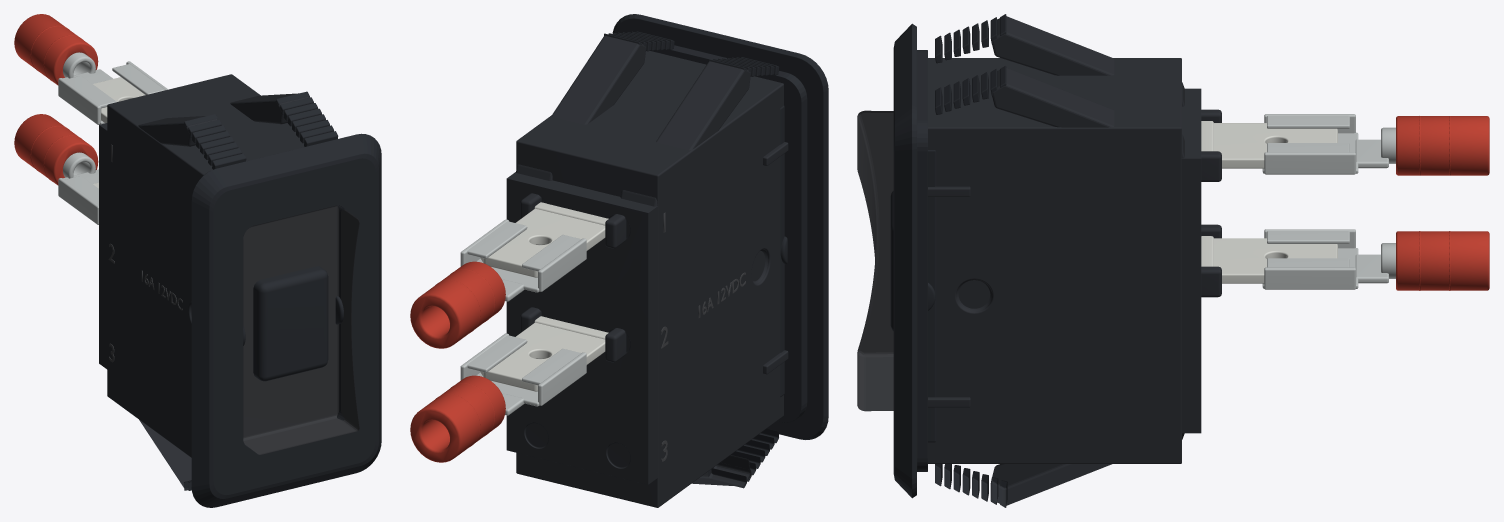
Rendered from switch_dc-rocker.glb.
The picture shows the model from 3 angles, left to right: view 1: azimuth 30°, elevation 25°; view 2: azimuth 150°, elevation 25°; view 3: azimuth 270°, elevation 25°; orthographic projection. The views are drawn at different scales.
Visible parts, largest first — view 1: Stepped rectangular bezel, rg-base · Moulded black base nylon, Shallow dished rocker face, rg-rocker · Satin black nylon 66, rg-clips · Satin black nylon 66, rg-clips · Moulded black base nylon, rg-push-on-OUT · Tinned push-on tab spring, rg-push-on-COM · Red insulated crimp sleeve, rg-push-on-OUT · Red insulated crimp sleeve, rg-push-on-COM · Tinned push-on tab spring, terminal-clamp:OUT · Plated male blade; view 2: rg-base · Moulded black base nylon, Stepped rectangular bezel, rg-clips · Moulded black base nylon, rg-push-on-COM · Red insulated crimp sleeve, rg-push-on-OUT · Red insulated crimp sleeve, rg-push-on-COM · Tinned push-on tab spring, rg-push-on-OUT · Tinned push-on tab spring, terminal-clamp:COM · Plated male blade, terminal-clamp:OUT · Plated male blade, rg-clips · Satin black nylon 66, rg-base · Satin black nylon 66, terminal-clamp:OUT · Moulded black base nylon (+1 smaller); view 3: rg-base · Moulded black base nylon, Stepped rectangular bezel, rg-clips · Moulded black base nylon, Shallow dished rocker face, rg-push-on-OUT · Tinned push-on tab spring, rg-push-on-COM · Tinned push-on tab spring, rg-push-on-COM · Red insulated crimp sleeve, rg-push-on-OUT · Red insulated crimp sleeve, rg-clips · Satin black nylon 66, terminal-clamp:COM · Plated male blade, terminal-clamp:OUT · Plated male blade, rg-base · Satin black nylon 66 (+3 smaller).
Part boxes in pixels (bbox=[...]): Stepped rectangular bezel: bbox=[191, 133, 381, 507]; rg-base · Moulded black base nylon: bbox=[99, 74, 304, 457]; Shallow dished rocker face: bbox=[243, 205, 359, 454]; rg-rocker · Satin black nylon 66: bbox=[243, 266, 343, 381]; rg-clips · Satin black nylon 66: bbox=[184, 91, 338, 490]; rg-clips · Moulded black base nylon: bbox=[138, 93, 309, 489]; rg-push-on-OUT · Tinned push-on tab spring: bbox=[58, 52, 167, 124]; rg-push-on-COM · Red insulated crimp sleeve: bbox=[14, 114, 98, 185]; rg-push-on-OUT · Red insulated crimp sleeve: bbox=[14, 14, 98, 85]; rg-push-on-COM · Tinned push-on tab spring: bbox=[58, 152, 98, 224]; terminal-clamp:OUT · Plated male blade: bbox=[93, 77, 145, 123]; rg-base · Moulded black base nylon: bbox=[506, 51, 788, 507]; Stepped rectangular bezel: bbox=[612, 14, 828, 439]; rg-clips · Moulded black base nylon: bbox=[516, 36, 750, 486]; rg-push-on-COM · Red insulated crimp sleeve: bbox=[410, 375, 505, 462]; rg-push-on-OUT · Red insulated crimp sleeve: bbox=[410, 261, 505, 348]; rg-push-on-COM · Tinned push-on tab spring: bbox=[460, 333, 586, 415]; rg-push-on-OUT · Tinned push-on tab spring: bbox=[460, 219, 586, 301]; terminal-clamp:COM · Plated male blade: bbox=[480, 316, 608, 391]; terminal-clamp:OUT · Plated male blade: bbox=[480, 202, 608, 277]; rg-clips · Satin black nylon 66: bbox=[604, 31, 779, 488]; rg-base · Satin black nylon 66: bbox=[780, 106, 784, 396]; terminal-clamp:OUT · Moulded black base nylon: bbox=[520, 193, 626, 248]; rg-base · Moulded black base nylon: bbox=[928, 58, 1201, 463]; Stepped rectangular bezel: bbox=[893, 23, 927, 498]; rg-clips · Moulded black base nylon: bbox=[991, 16, 1184, 505]; Shallow dished rocker face: bbox=[857, 110, 893, 411]; rg-push-on-OUT · Tinned push-on tab spring: bbox=[1262, 114, 1395, 174]; rg-push-on-COM · Tinned push-on tab spring: bbox=[1262, 229, 1395, 289]; rg-push-on-COM · Red insulated crimp sleeve: bbox=[1396, 231, 1489, 290]; rg-push-on-OUT · Red insulated crimp sleeve: bbox=[1396, 116, 1489, 175]; rg-clips · Satin black nylon 66: bbox=[935, 14, 1007, 507]; terminal-clamp:COM · Plated male blade: bbox=[1201, 236, 1337, 283]; terminal-clamp:OUT · Plated male blade: bbox=[1201, 121, 1337, 168]; rg-base · Satin black nylon 66: bbox=[928, 150, 936, 442].
Bounding box in the file's own units: 0.462 × 0.8587 × 1.16.
